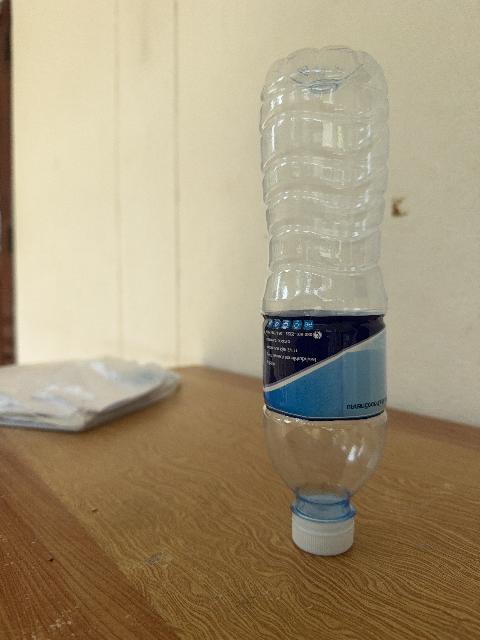bottle: (261, 47, 388, 554)
